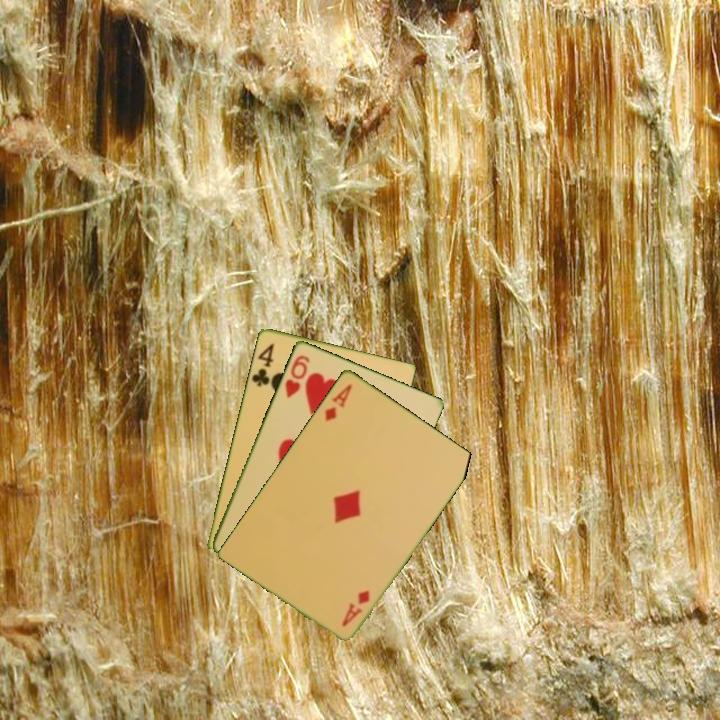4c: (248, 340, 277, 389)
6h: (281, 351, 312, 400)
Ad: (338, 586, 373, 629), (321, 380, 355, 423)
